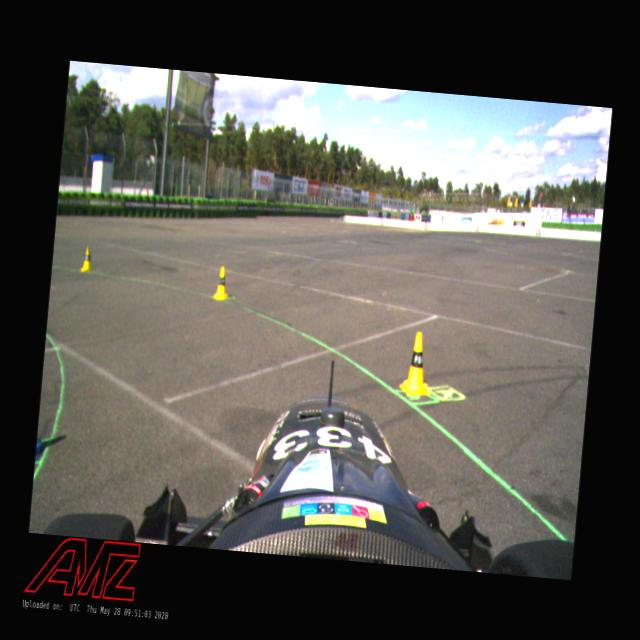yellow_cone: (399, 329, 432, 396), (212, 264, 228, 298), (80, 245, 93, 272)
